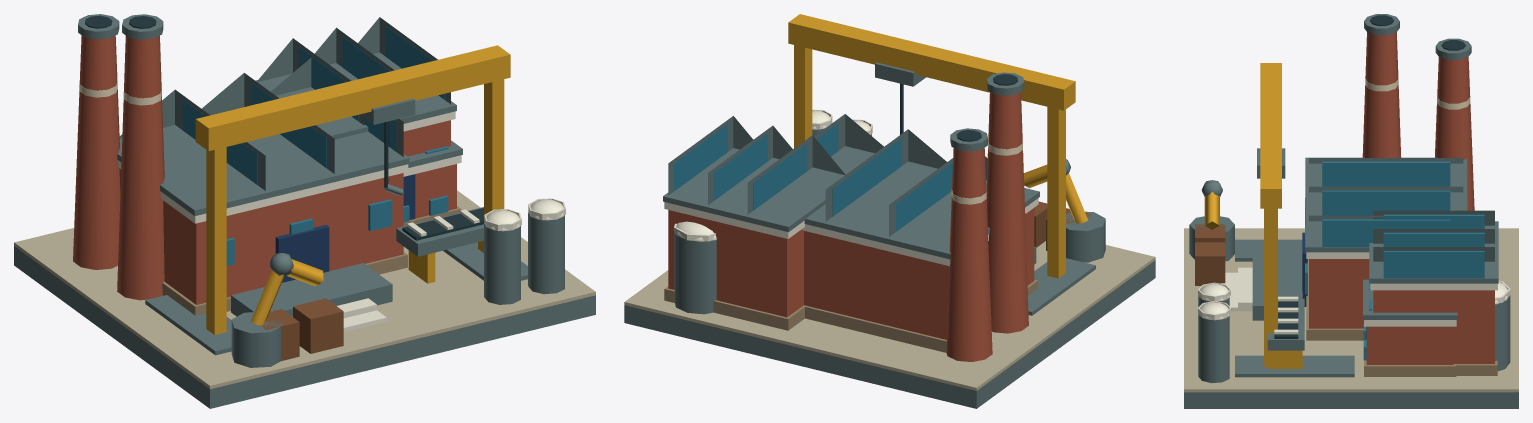
Rendered from factory-lv4.glb.
3 renders of one model, left to right at view 1: azimuth 30°, elevation 25°; view 2: azimuth 150°, elevation 25°; view 3: azimuth 270°, elevation 25°, orthographic. The views are drawn at different scales.
Visible parts, largest first — view 1: chimney_clay, foundation_paving, main_workshop_clay, foundation_iron, gantry_beam_ochre, main_workshop_roof_iron, gantry_posts_ochre, material_silos_iron, loading_platform_iron, main_workshop_sawtooth_iron, supply_crates_wood, main_workshop_skylights_glass (+22 smaller); view 2: chimney_clay, foundation_paving, main_workshop_clay, foundation_iron, gantry_beam_ochre, second_workshop_clay, main_workshop_roof_iron, second_workshop_roof_iron, gantry_posts_ochre, second_workshop_skylights_glass, main_workshop_skylights_glass, main_workshop_sawtooth_iron (+16 smaller); view 3: foundation_paving, main_workshop_skylights_glass, chimney_clay, foundation_iron, second_workshop_skylights_glass, second_workshop_clay, main_workshop_clay, warehouse_clay, gantry_beam_ochre, gantry_foot_iron, main_workshop_roof_iron, second_workshop_sawtooth_iron (+25 smaller).
Boxes of the visible parts, x1,y1,x2,y2 form: chimney_clay: [73, 35, 164, 300]; foundation_paving: [14, 190, 595, 389]; main_workshop_clay: [119, 169, 403, 304]; foundation_iron: [14, 246, 595, 408]; gantry_beam_ochre: [195, 45, 510, 151]; main_workshop_roof_iron: [117, 125, 409, 215]; gantry_posts_ochre: [206, 79, 504, 334]; material_silos_iron: [484, 213, 564, 304]; loading_platform_iron: [231, 263, 392, 316]; main_workshop_sawtooth_iron: [119, 58, 403, 190]; supply_crates_wood: [261, 298, 343, 360]; main_workshop_skylights_glass: [182, 83, 395, 185]; chimney_clay: [946, 92, 1028, 361]; foundation_paving: [624, 241, 1155, 390]; main_workshop_clay: [804, 208, 1034, 339]; foundation_iron: [624, 260, 1155, 408]; gantry_beam_ochre: [788, 14, 1075, 110]; second_workshop_clay: [668, 210, 803, 317]; main_workshop_roof_iron: [804, 146, 1039, 259]; second_workshop_roof_iron: [663, 148, 846, 231]; gantry_posts_ochre: [794, 45, 1065, 278]; second_workshop_skylights_glass: [674, 124, 807, 210]; main_workshop_skylights_glass: [816, 123, 952, 231]; main_workshop_sawtooth_iron: [814, 114, 1024, 236]; foundation_paving: [1184, 228, 1518, 392]; main_workshop_skylights_glass: [1322, 161, 1450, 246]; chimney_clay: [1362, 32, 1474, 210]; foundation_iron: [1184, 392, 1518, 408]; second_workshop_skylights_glass: [1383, 214, 1484, 278]; second_workshop_clay: [1373, 290, 1494, 363]; main_workshop_clay: [1309, 259, 1369, 328]; warehouse_clay: [1366, 326, 1453, 364]; gantry_beam_ochre: [1260, 63, 1281, 208]; gantry_foot_iron: [1235, 239, 1354, 377]; main_workshop_roof_iron: [1305, 157, 1467, 252]; second_workshop_sawtooth_iron: [1373, 210, 1494, 261].
Size of the model in its own units: 1 by 0.7197 by 0.88.
